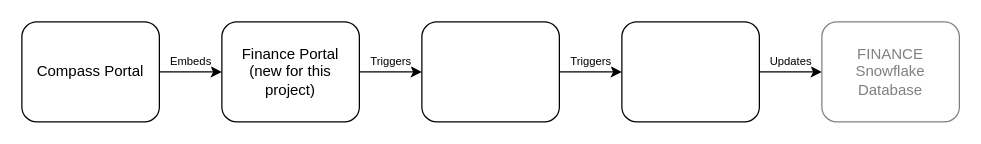
The diagram is 981 pixels wide and 144 high, and some of its shapes have lost their labels. The shapes that lost their labels are listed below. From the top down, each one's box as (x1, y1, x2, y2) in pixels, then its label:
(421, 21, 559, 122): Bank OCR Data Loader
(621, 21, 759, 122): Bank OCR Data Pipeline
